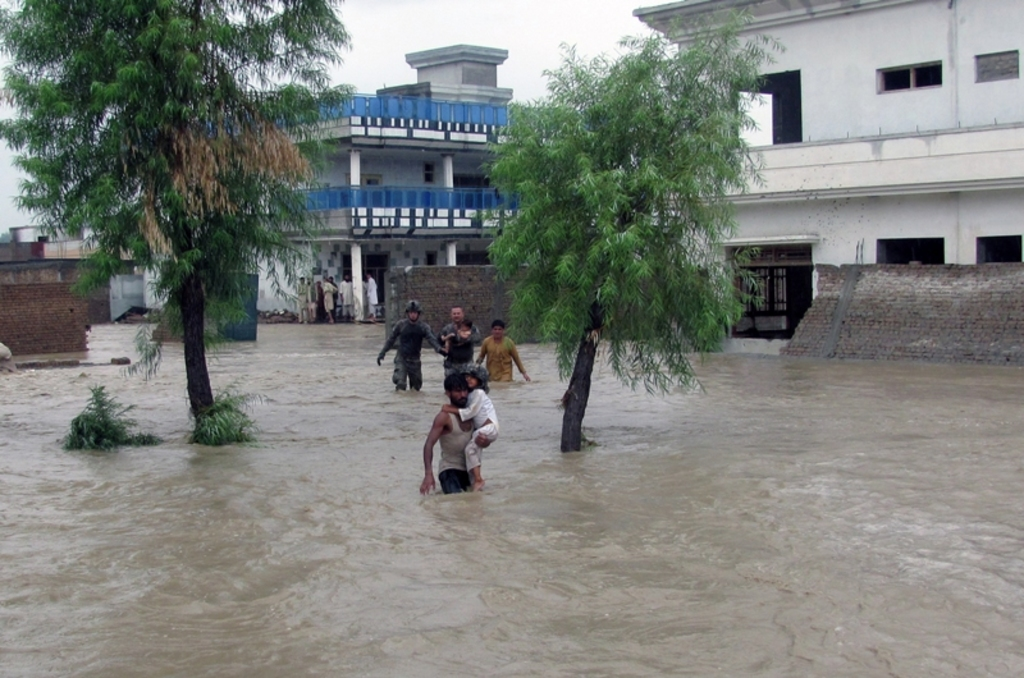person: (474, 318, 532, 384)
